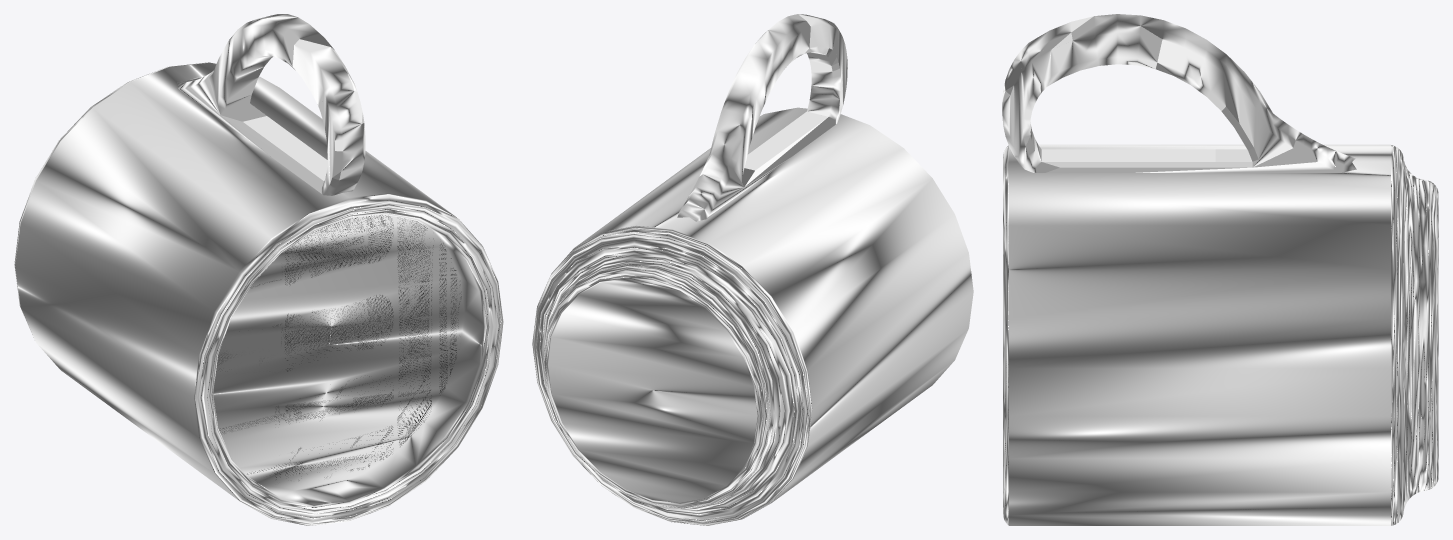
The model's file is model_align.obj.
3 views of the same model, side by side, from view 1: azimuth 30°, elevation 25°; view 2: azimuth 150°, elevation 25°; view 3: azimuth 270°, elevation 25° (orthographic). The views are drawn at different scales.
Size of the model in its own units: 0.0873 by 0.1233 by 0.0995.
